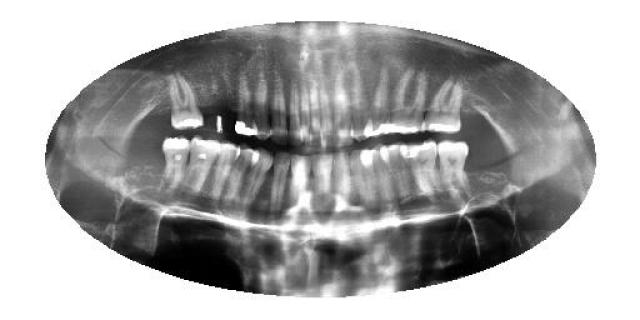Fillings: (386, 67, 429, 135), (405, 140, 445, 205), (425, 77, 465, 135), (168, 69, 204, 131), (184, 136, 221, 194), (161, 136, 191, 190), (235, 72, 255, 136)
